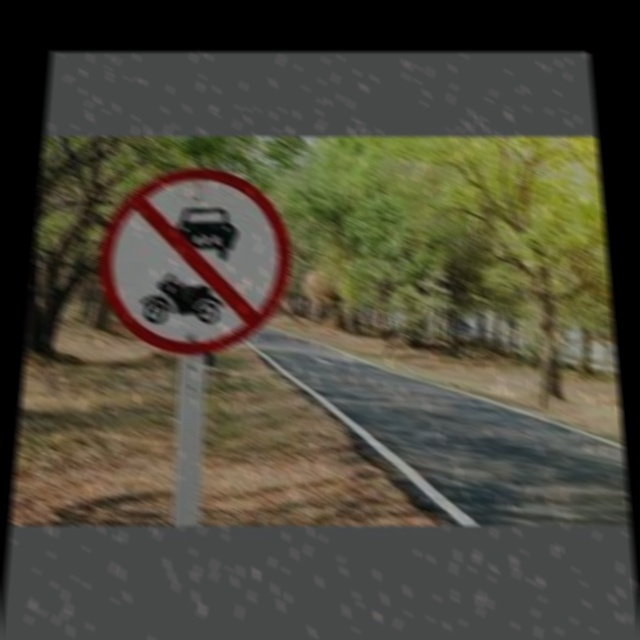All_Motor_Vehicles_Prohibited: (98, 169, 287, 348)
